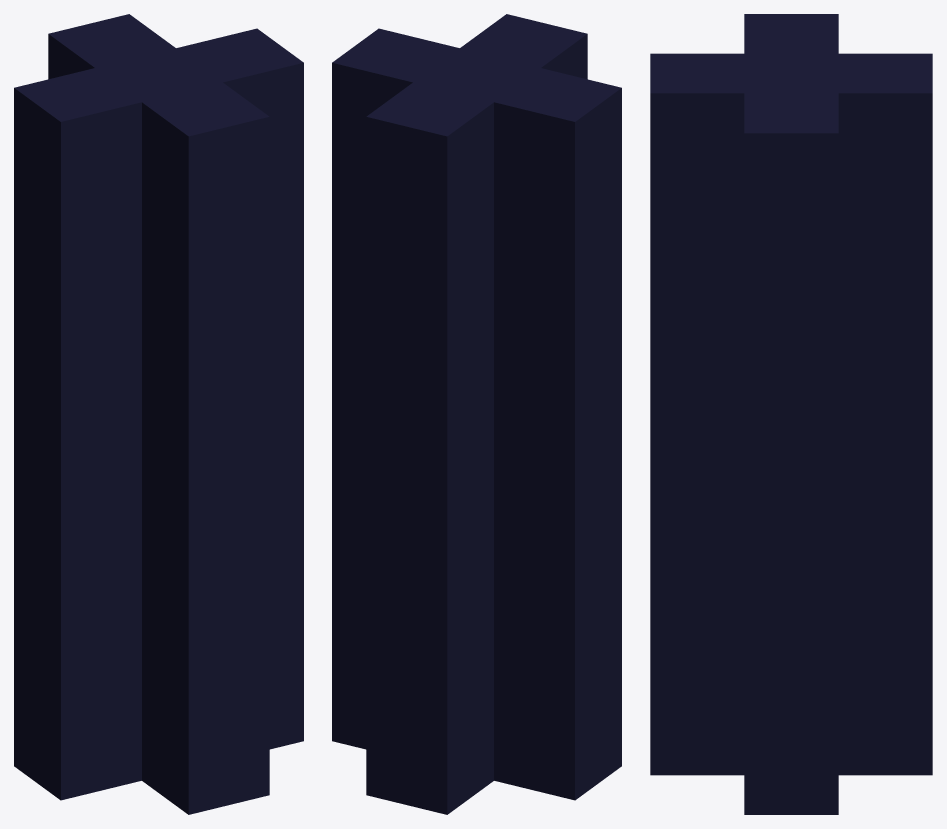
Rendered from LunaTree1Trunk.obj.
3 renders of one model, left to right at view 1: azimuth 30°, elevation 25°; view 2: azimuth 150°, elevation 25°; view 3: azimuth 270°, elevation 25°, orthographic.
Visible parts, largest first — view 1: LunaTree1Trunk; view 2: LunaTree1Trunk; view 3: LunaTree1Trunk.
Boxes of the visible parts, x1=… form: LunaTree1Trunk: x1=14, y1=14, x2=303, y2=814; LunaTree1Trunk: x1=332, y1=14, x2=621, y2=814; LunaTree1Trunk: x1=650, y1=14, x2=932, y2=814.
Size of the model in its own units: 3 by 8 by 3.
1 material, 1 textured.
